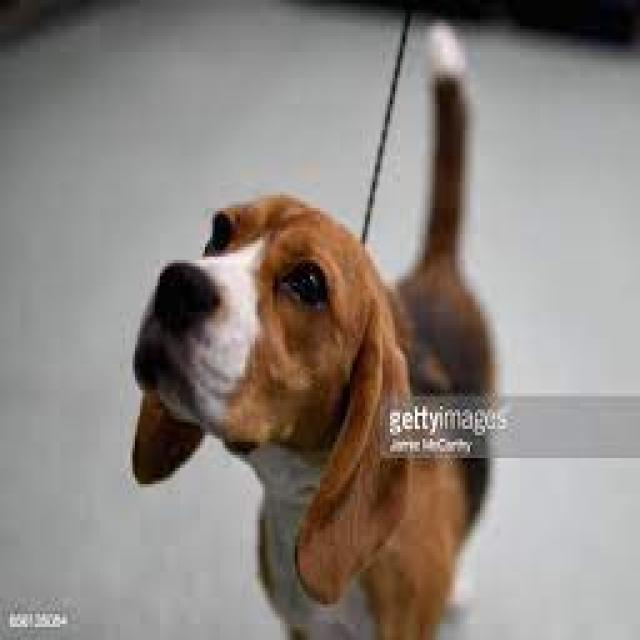Dog: (125, 16, 500, 640)
